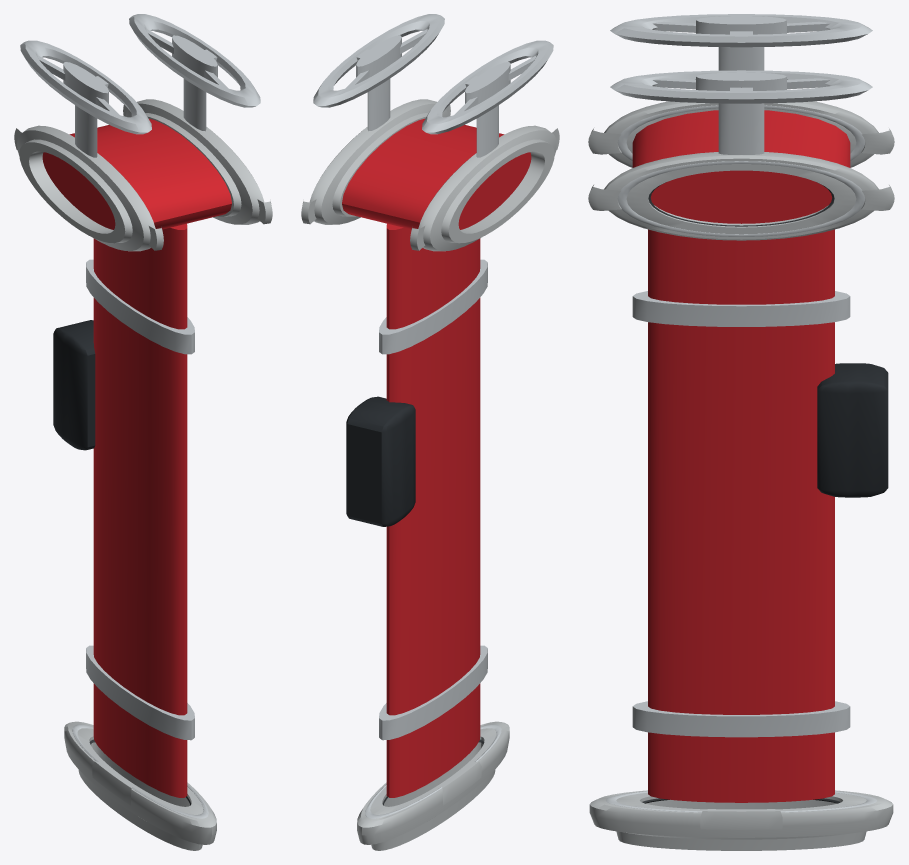
The model's file is ob_standpipe.glb.
3 renders of one model, left to right at view 1: azimuth 30°, elevation 25°; view 2: azimuth 150°, elevation 25°; view 3: azimuth 270°, elevation 25°, orthographic. The views are drawn at different scales.
Visible parts, largest first — view 1: ob_standpipe; view 2: ob_standpipe; view 3: ob_standpipe.
Boxes of the visible parts, box(x1,y1,x2,y2) form: ob_standpipe: box(14, 14, 272, 850); ob_standpipe: box(301, 14, 559, 850); ob_standpipe: box(588, 14, 894, 850).
Size of the model in its own units: 0.25 by 1.14 by 0.4.
